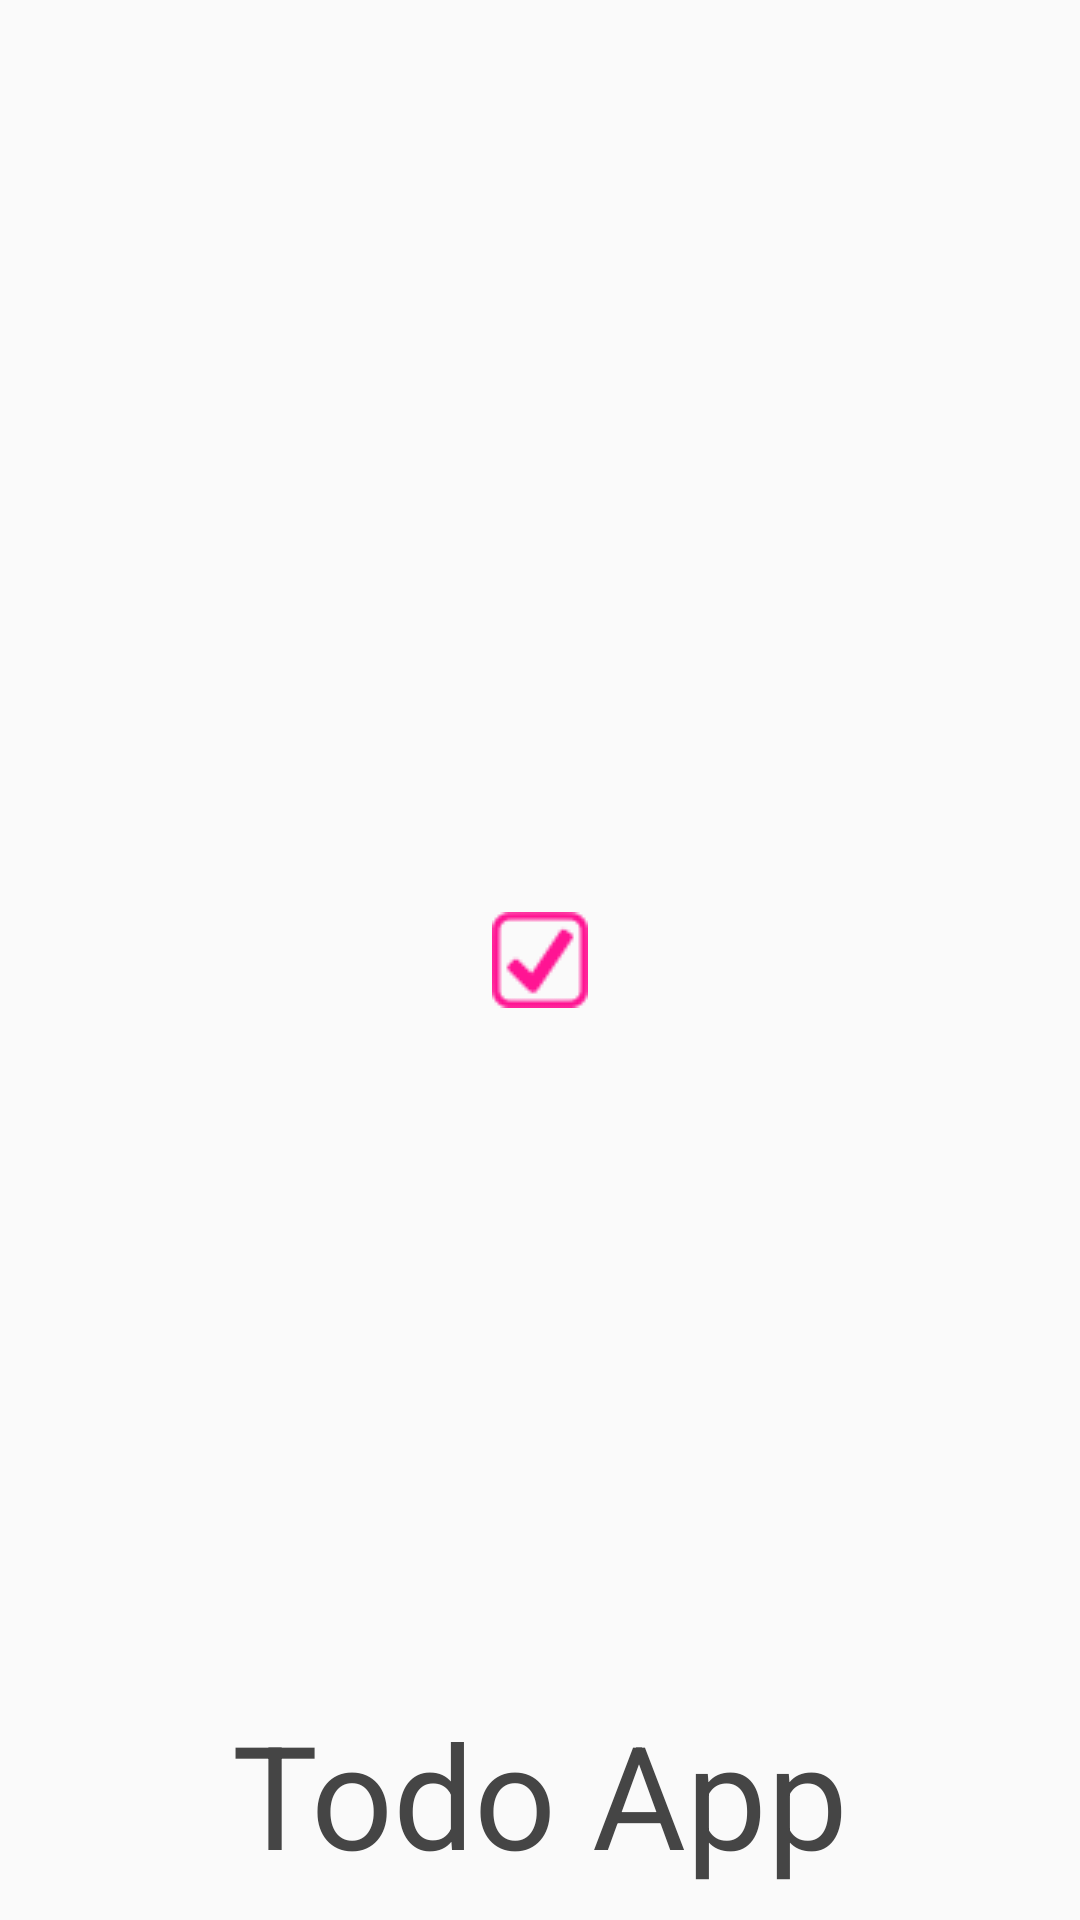

Named icons in this screenshot (1080px×1920px) and their bounding boxes, [x1,y1,x2,y2]:
checkicon: [492,912,588,1008]
